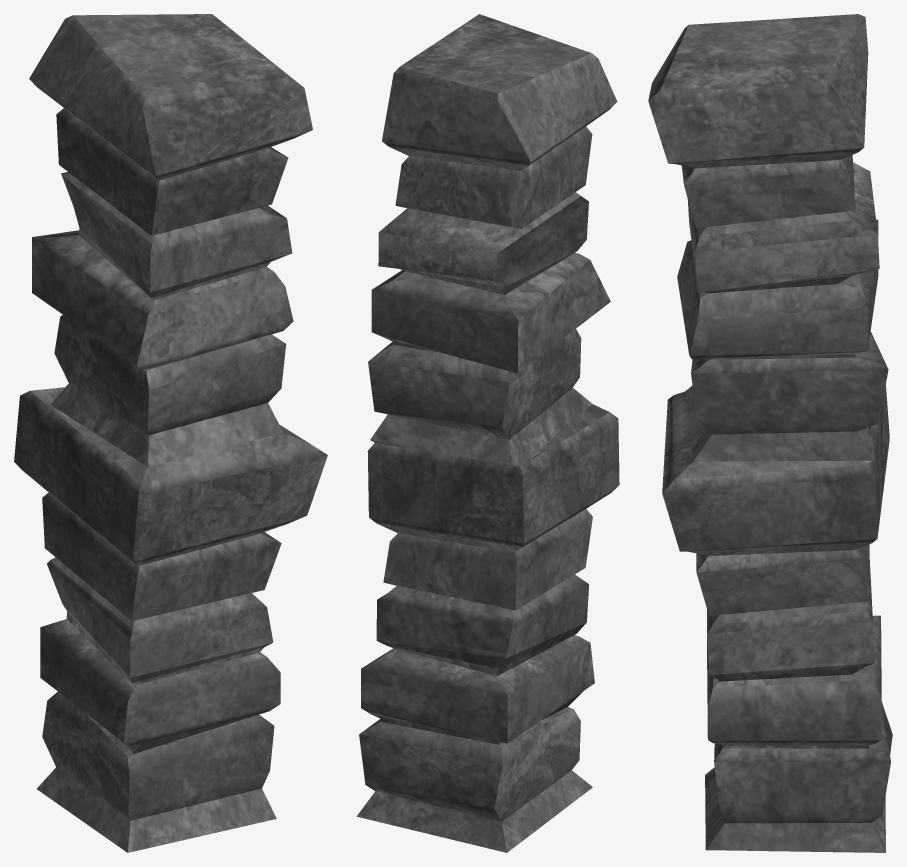
The model's file is PillarStack.FBX.
3 renders of one model, left to right at view 1: azimuth 30°, elevation 25°; view 2: azimuth 150°, elevation 25°; view 3: azimuth 270°, elevation 25°, orthographic. The views are drawn at different scales.
Visible parts, largest first — view 1: pasted__pCube2; view 2: pasted__pCube2; view 3: pasted__pCube2.
Boxes of the visible parts, left/top/right/bottom form: pasted__pCube2: left=14, top=14, right=327, bottom=852; pasted__pCube2: left=356, top=14, right=619, bottom=852; pasted__pCube2: left=648, top=14, right=892, bottom=852.
Bounding box in the file's own units: 76.28 × 284 × 81.39.
Materials: 1 (1 with a texture image).
